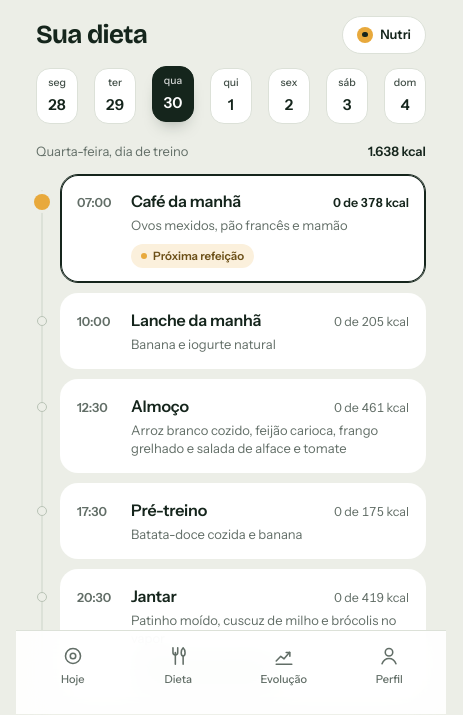
Test case: Dieta (S12) › outro dia mostra a prévia sem links (RN23)
The width and height of the screenshot is (463, 715).
Click the tab "qui 1".
click(231, 96)  # box [210,68,252,124]
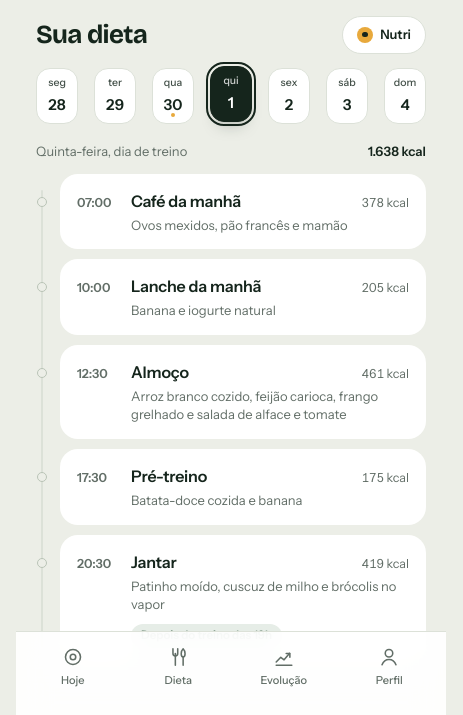
Expected: the text "Quinta-feira, dia de treino" is shown, [36,142,187,162]
